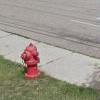Hydrant: (16, 39, 44, 83)
